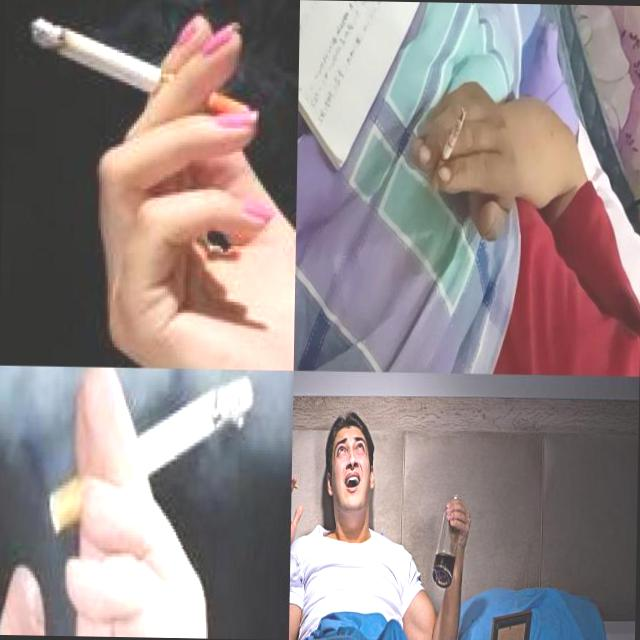cigarette: (47, 372, 254, 537), (28, 18, 254, 129), (430, 106, 464, 194), (291, 473, 298, 491)
